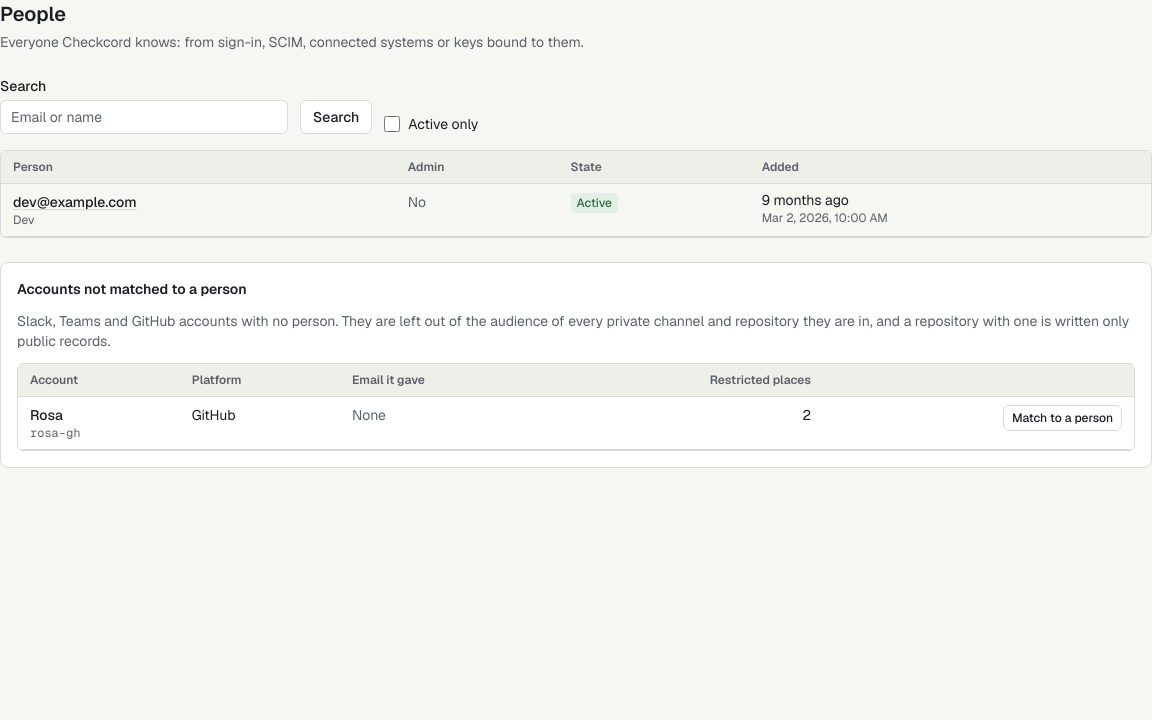
it: accounts › matching an account sends the email and says so
The width and height of the screenshot is (1152, 720).
Click the button "Match to a person" at (1062, 418), box x1=1003 y1=405 x2=1122 y2=431
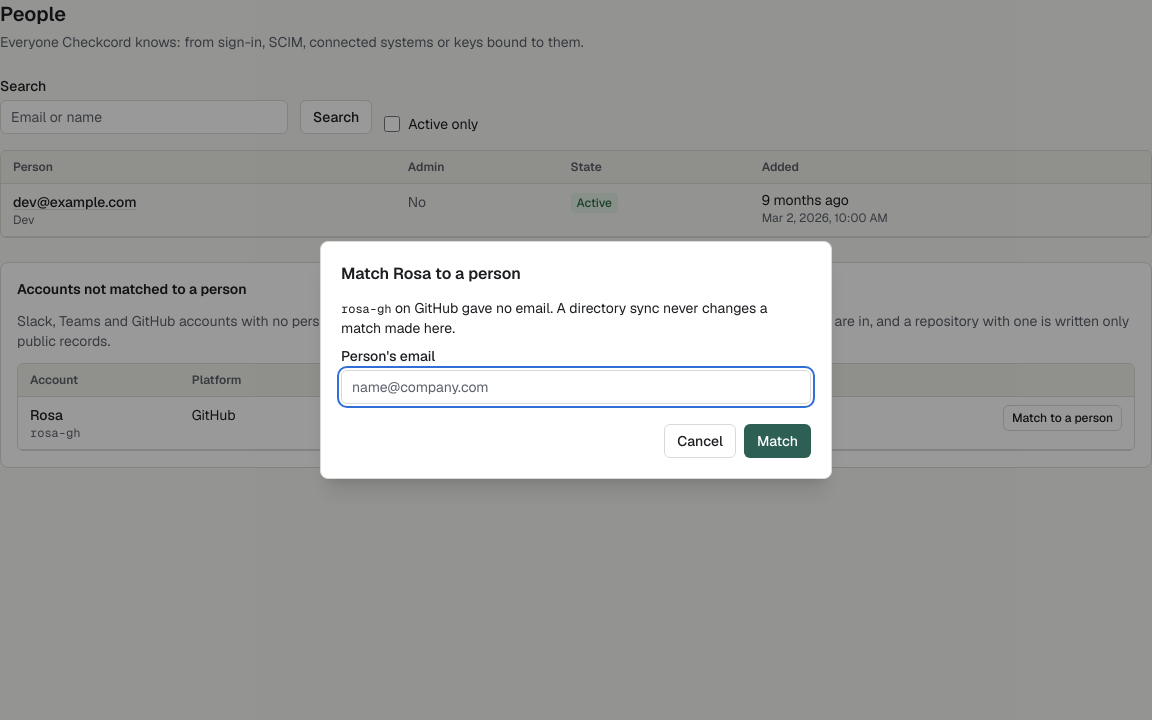
Now the dialog shows "gave no email", box x1=458 y1=299 x2=550 y2=317
Type " rosa@example.com " into the field labelled "Person's email" at (576, 387), box x1=341 y1=370 x2=811 y2=404
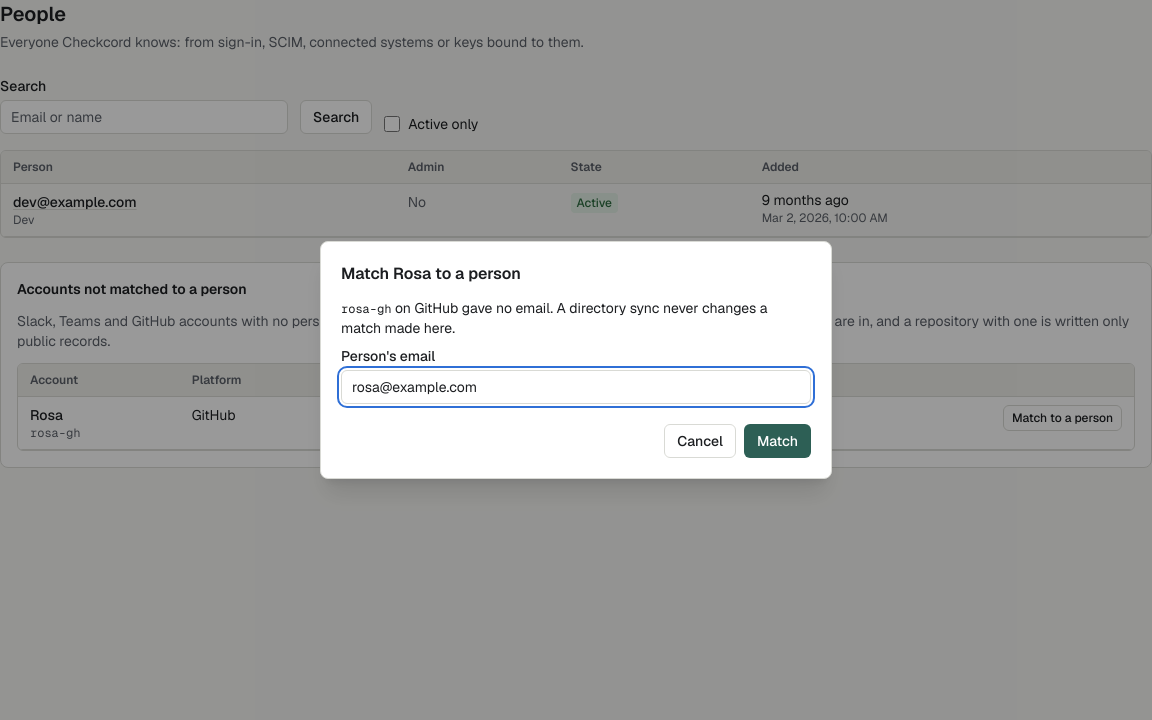
Click the button "Match" at (777, 441), box x1=744 y1=424 x2=811 y2=458
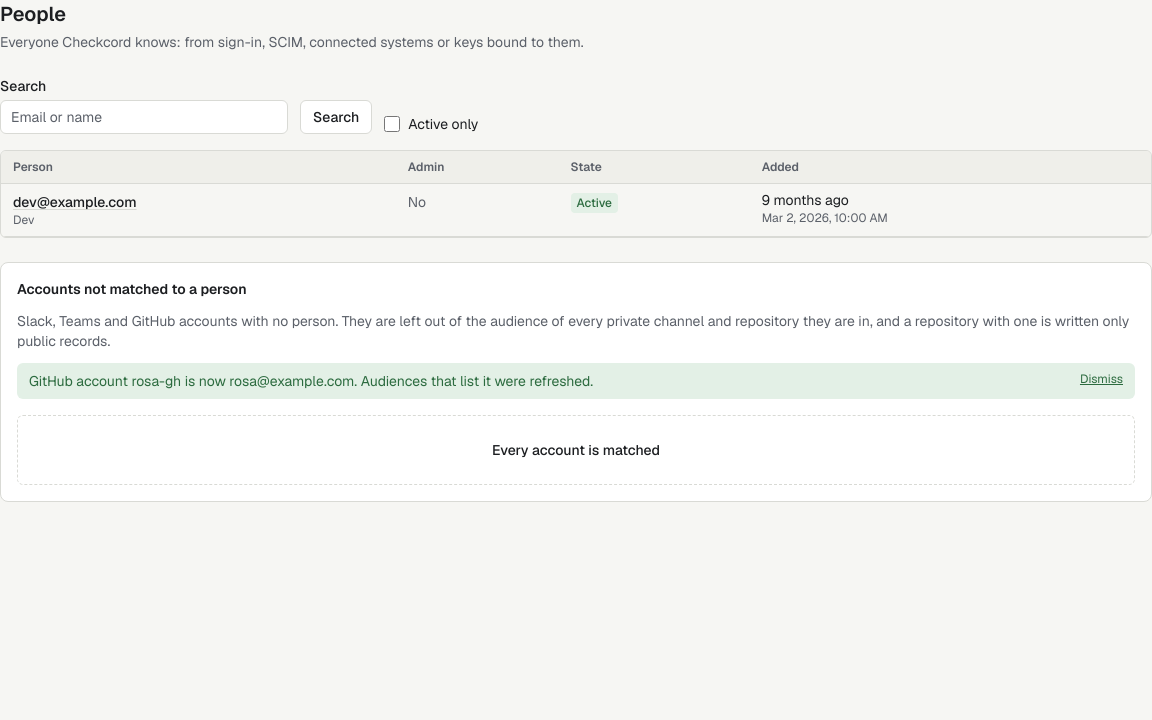
Now the dialog is gone
Now the text "GitHub account rosa-gh is now rosa@example.com" is shown, box x1=29 y1=372 x2=593 y2=390
